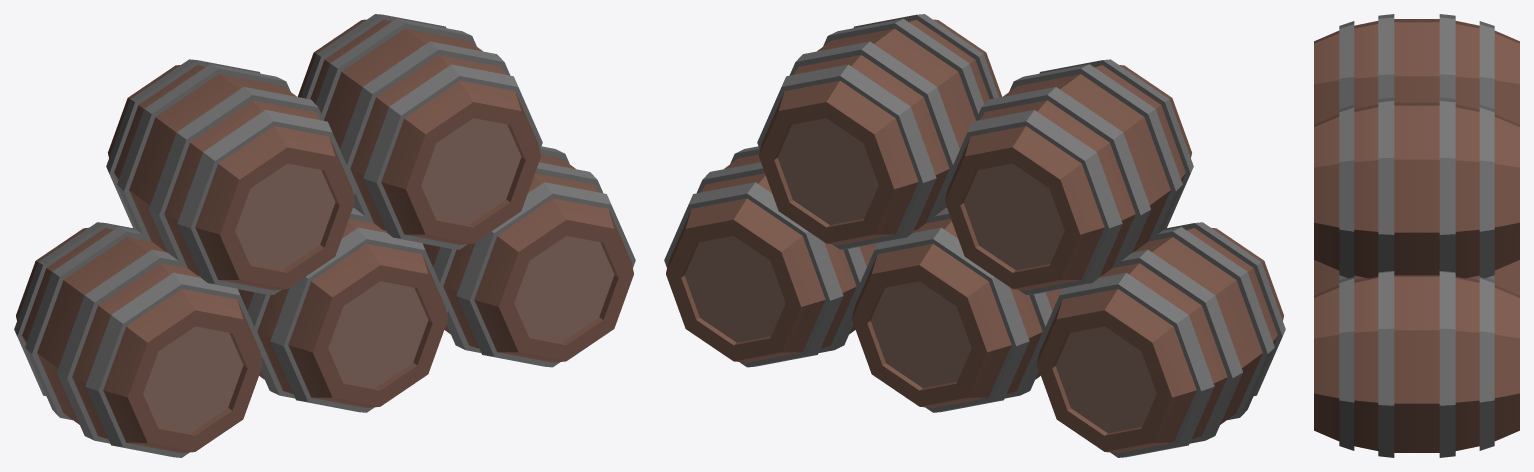
File: prop_054.fbx
3 renders of one model, left to right at view 1: azimuth 30°, elevation 25°; view 2: azimuth 150°, elevation 25°; view 3: azimuth 270°, elevation 25°, orthographic. The views are drawn at different scales.
Parts seen in each view (by area): view 1: prop.054; view 2: prop.054; view 3: prop.054.
Boxes of the visible parts, x1,y1,x2,y2 form: prop.054: (14,14,635,457); prop.054: (664,14,1285,457); prop.054: (1314,14,1519,457).
Size of the model in its own units: 472 by 273 by 163.
1 material, 1 textured.
